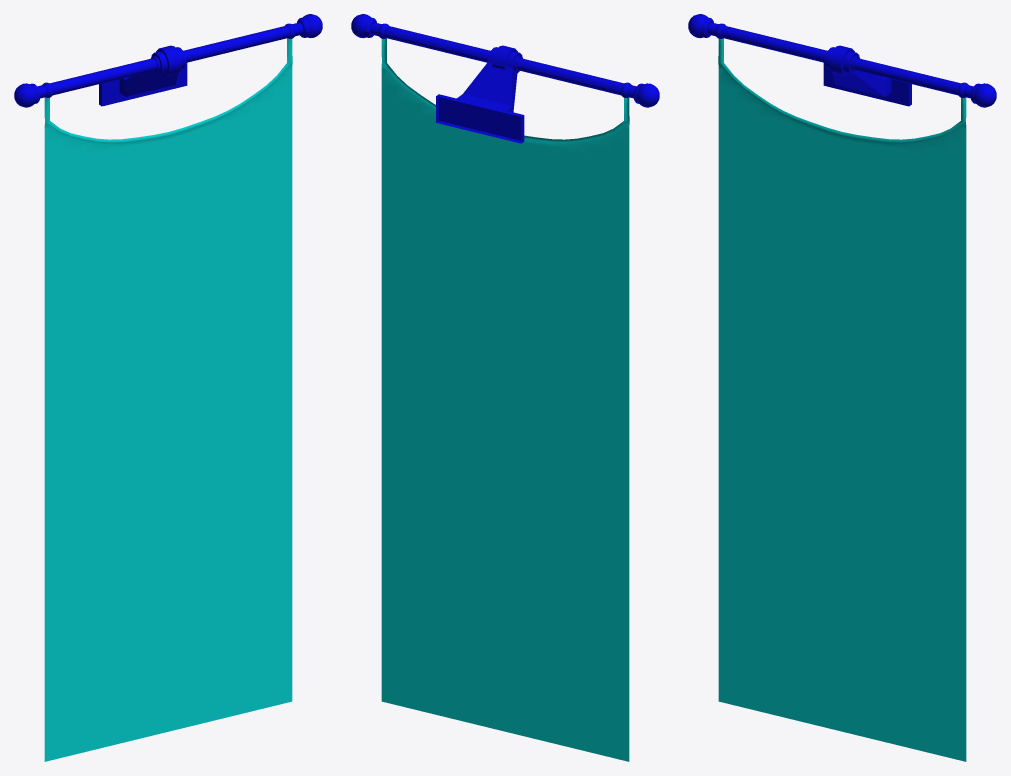
Rendered from banner.fbx.
3 views of the same model, side by side, from view 1: azimuth 30°, elevation 25°; view 2: azimuth 150°, elevation 25°; view 3: azimuth 330°, elevation 25° (orthographic).
Visible parts, largest first — view 1: banner_low, banner_pole_low; view 2: banner_low, banner_pole_low; view 3: banner_low, banner_pole_low.
Boxes of the visible parts, box(x1,y1,x2,y2) form: banner_low: box(44, 38, 292, 761); banner_pole_low: box(14, 14, 322, 107); banner_low: box(381, 38, 629, 761); banner_pole_low: box(351, 14, 659, 143); banner_low: box(718, 38, 966, 761); banner_pole_low: box(688, 14, 996, 107).
Size of the model in its own units: 146 by 312 by 28.
